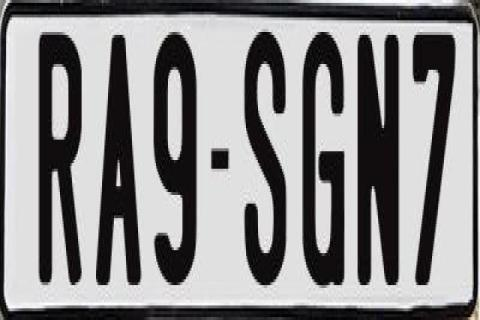0: (152, 27, 198, 297), (413, 29, 455, 282)
A: (95, 35, 143, 294)
G: (298, 23, 348, 285)
N: (356, 26, 404, 291)
R: (36, 32, 82, 296)
S: (244, 26, 286, 291)
